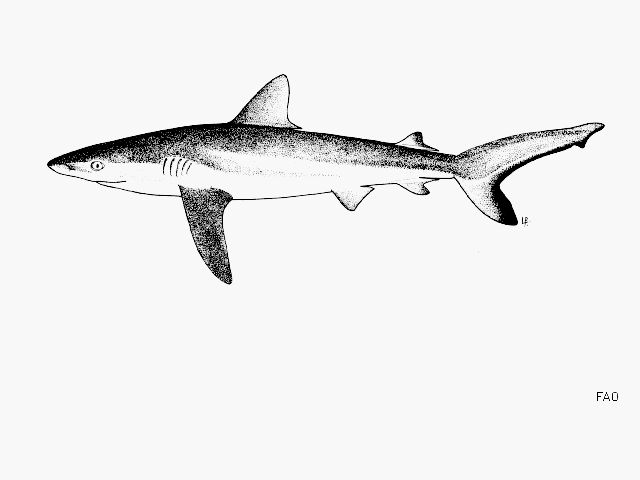fish: (47, 74, 606, 287)
